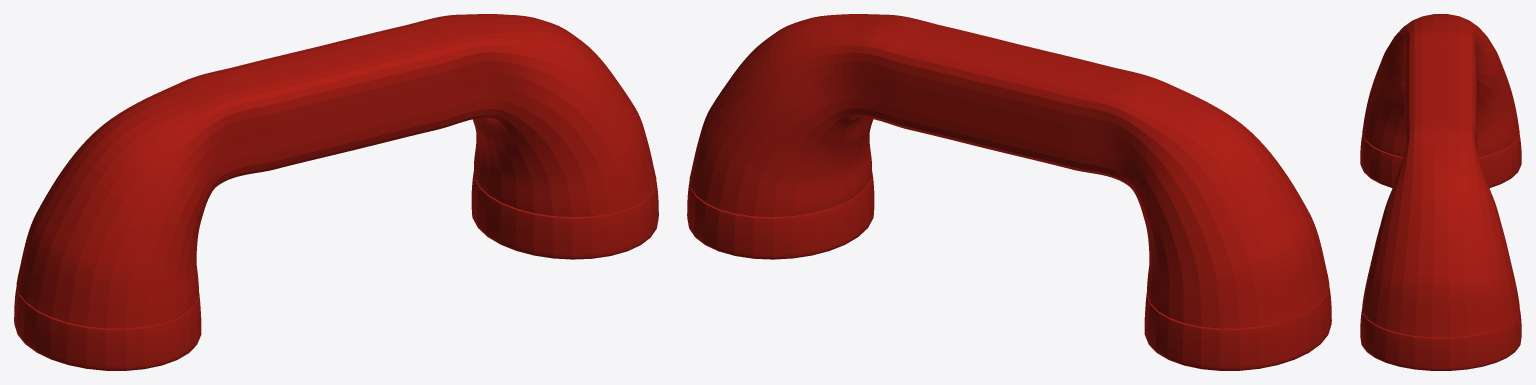
File: Phone1.obj
The picture shows the model from 3 angles, left to right: view 1: azimuth 30°, elevation 25°; view 2: azimuth 150°, elevation 25°; view 3: azimuth 270°, elevation 25°; orthographic projection. The views are drawn at different scales.
Parts seen in each view (by area): view 1: polySurface1 Phone3:pPlane4polySurface9polySurface9; view 2: polySurface1 Phone3:pPlane4polySurface9polySurface9; view 3: polySurface1 Phone3:pPlane4polySurface9polySurface9.
Part boxes in pixels (x1,y1,x2,y2): polySurface1 Phone3:pPlane4polySurface9polySurface9: [14, 14, 658, 370]; polySurface1 Phone3:pPlane4polySurface9polySurface9: [687, 14, 1331, 370]; polySurface1 Phone3:pPlane4polySurface9polySurface9: [1360, 14, 1521, 370].
Size of the model in its own units: 11.58 by 4.01 by 3.34.
Materials: 1 (1 with a texture image).
